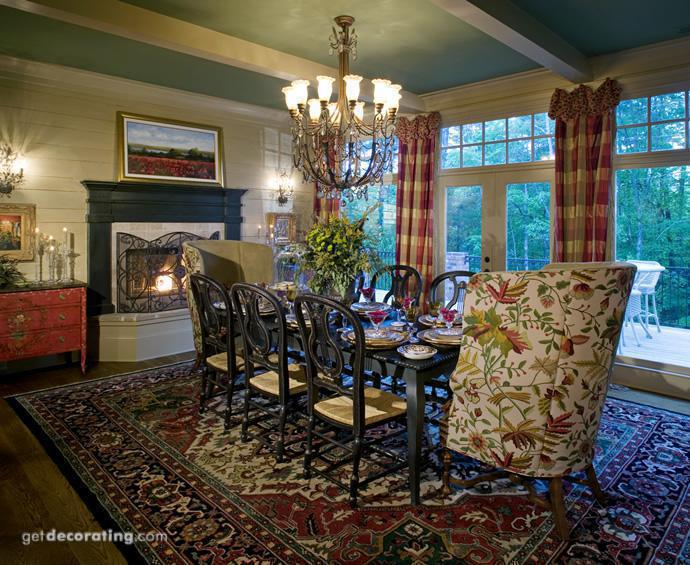Puerta: (436, 173, 545, 273)
